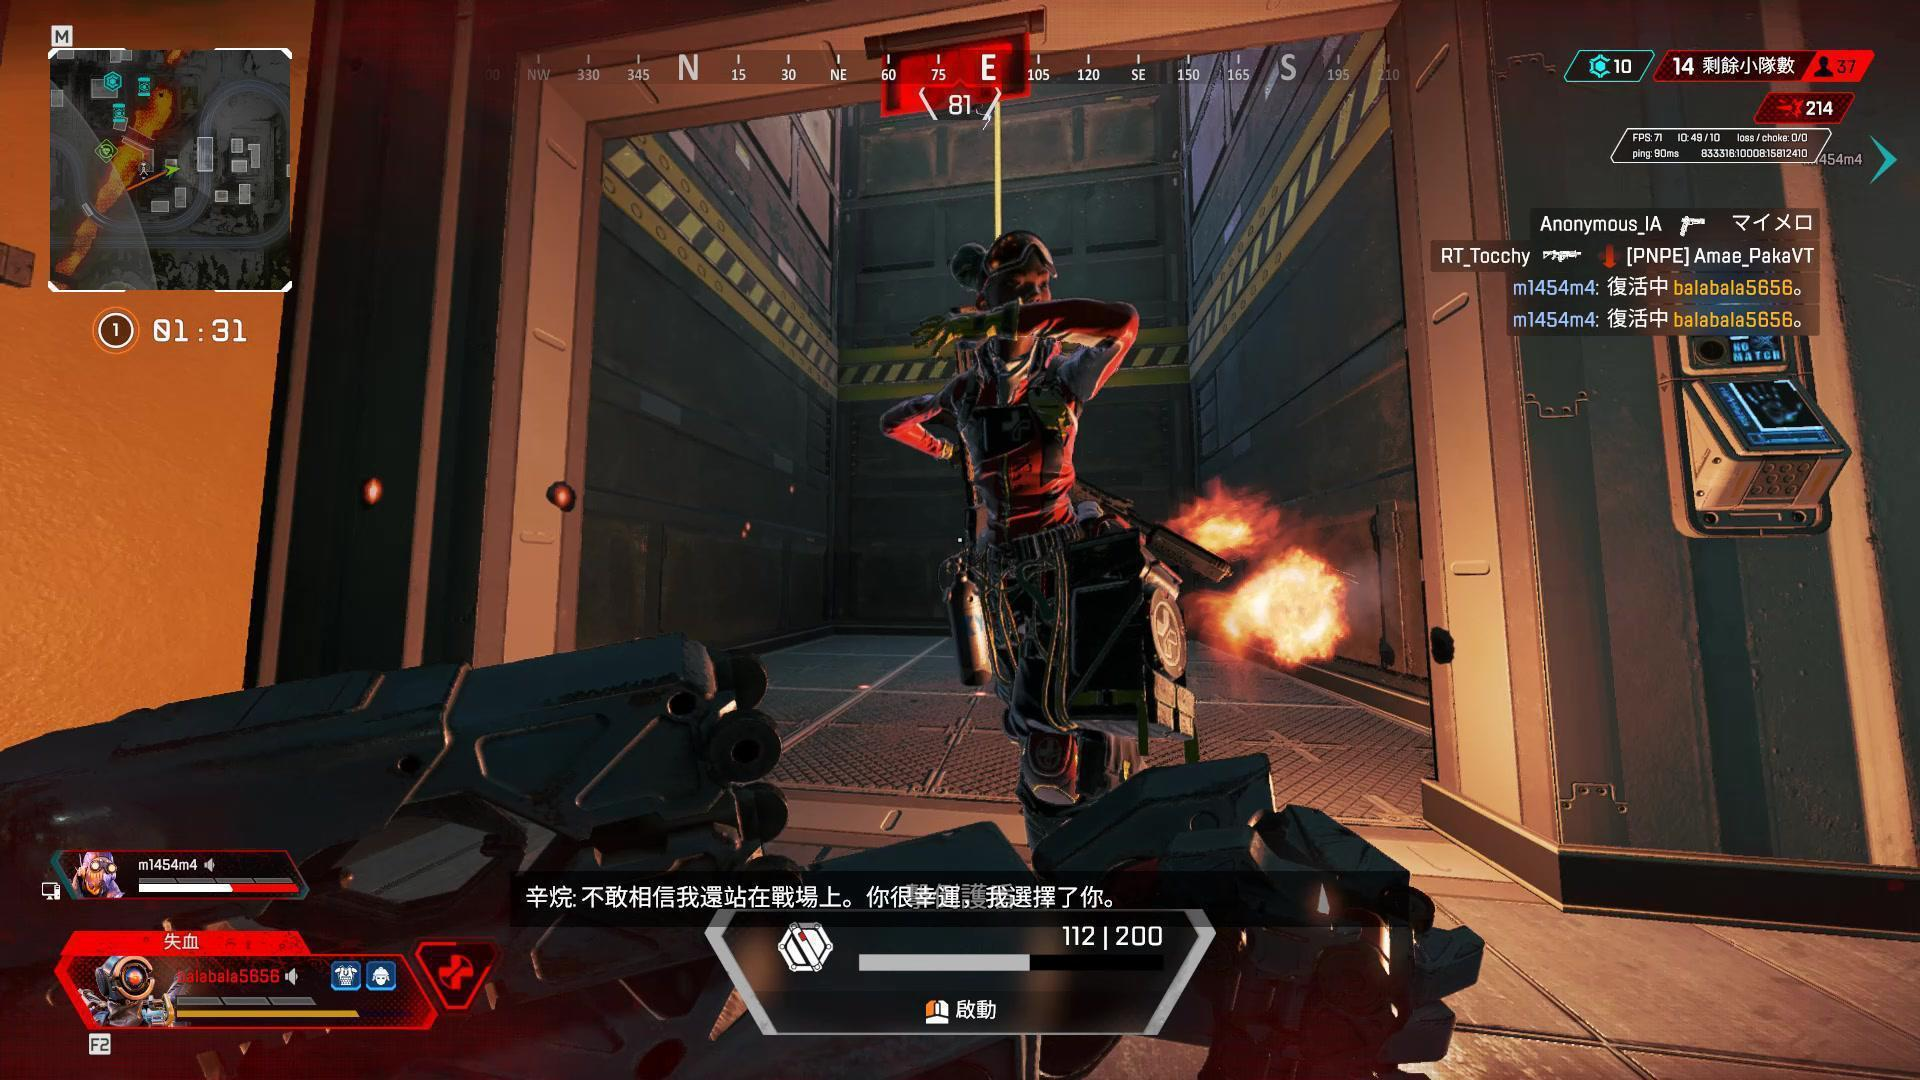avatar: (875, 229, 1150, 813)
object: (1223, 546, 1350, 666)
